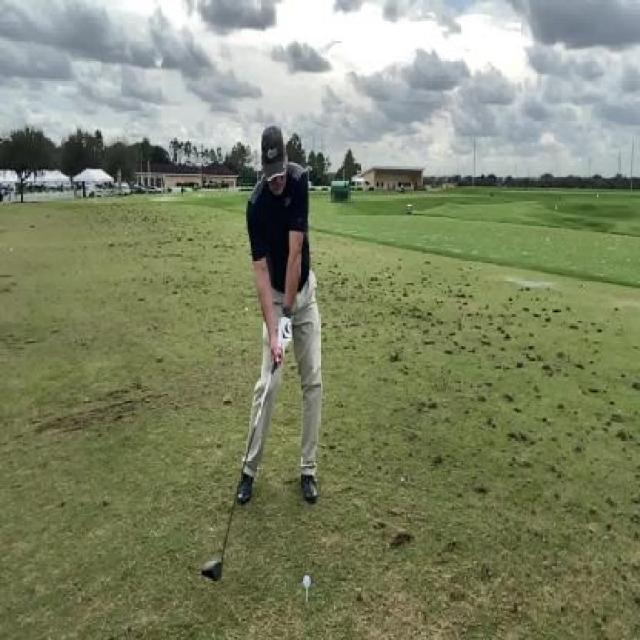club head: (200, 547, 225, 582)
